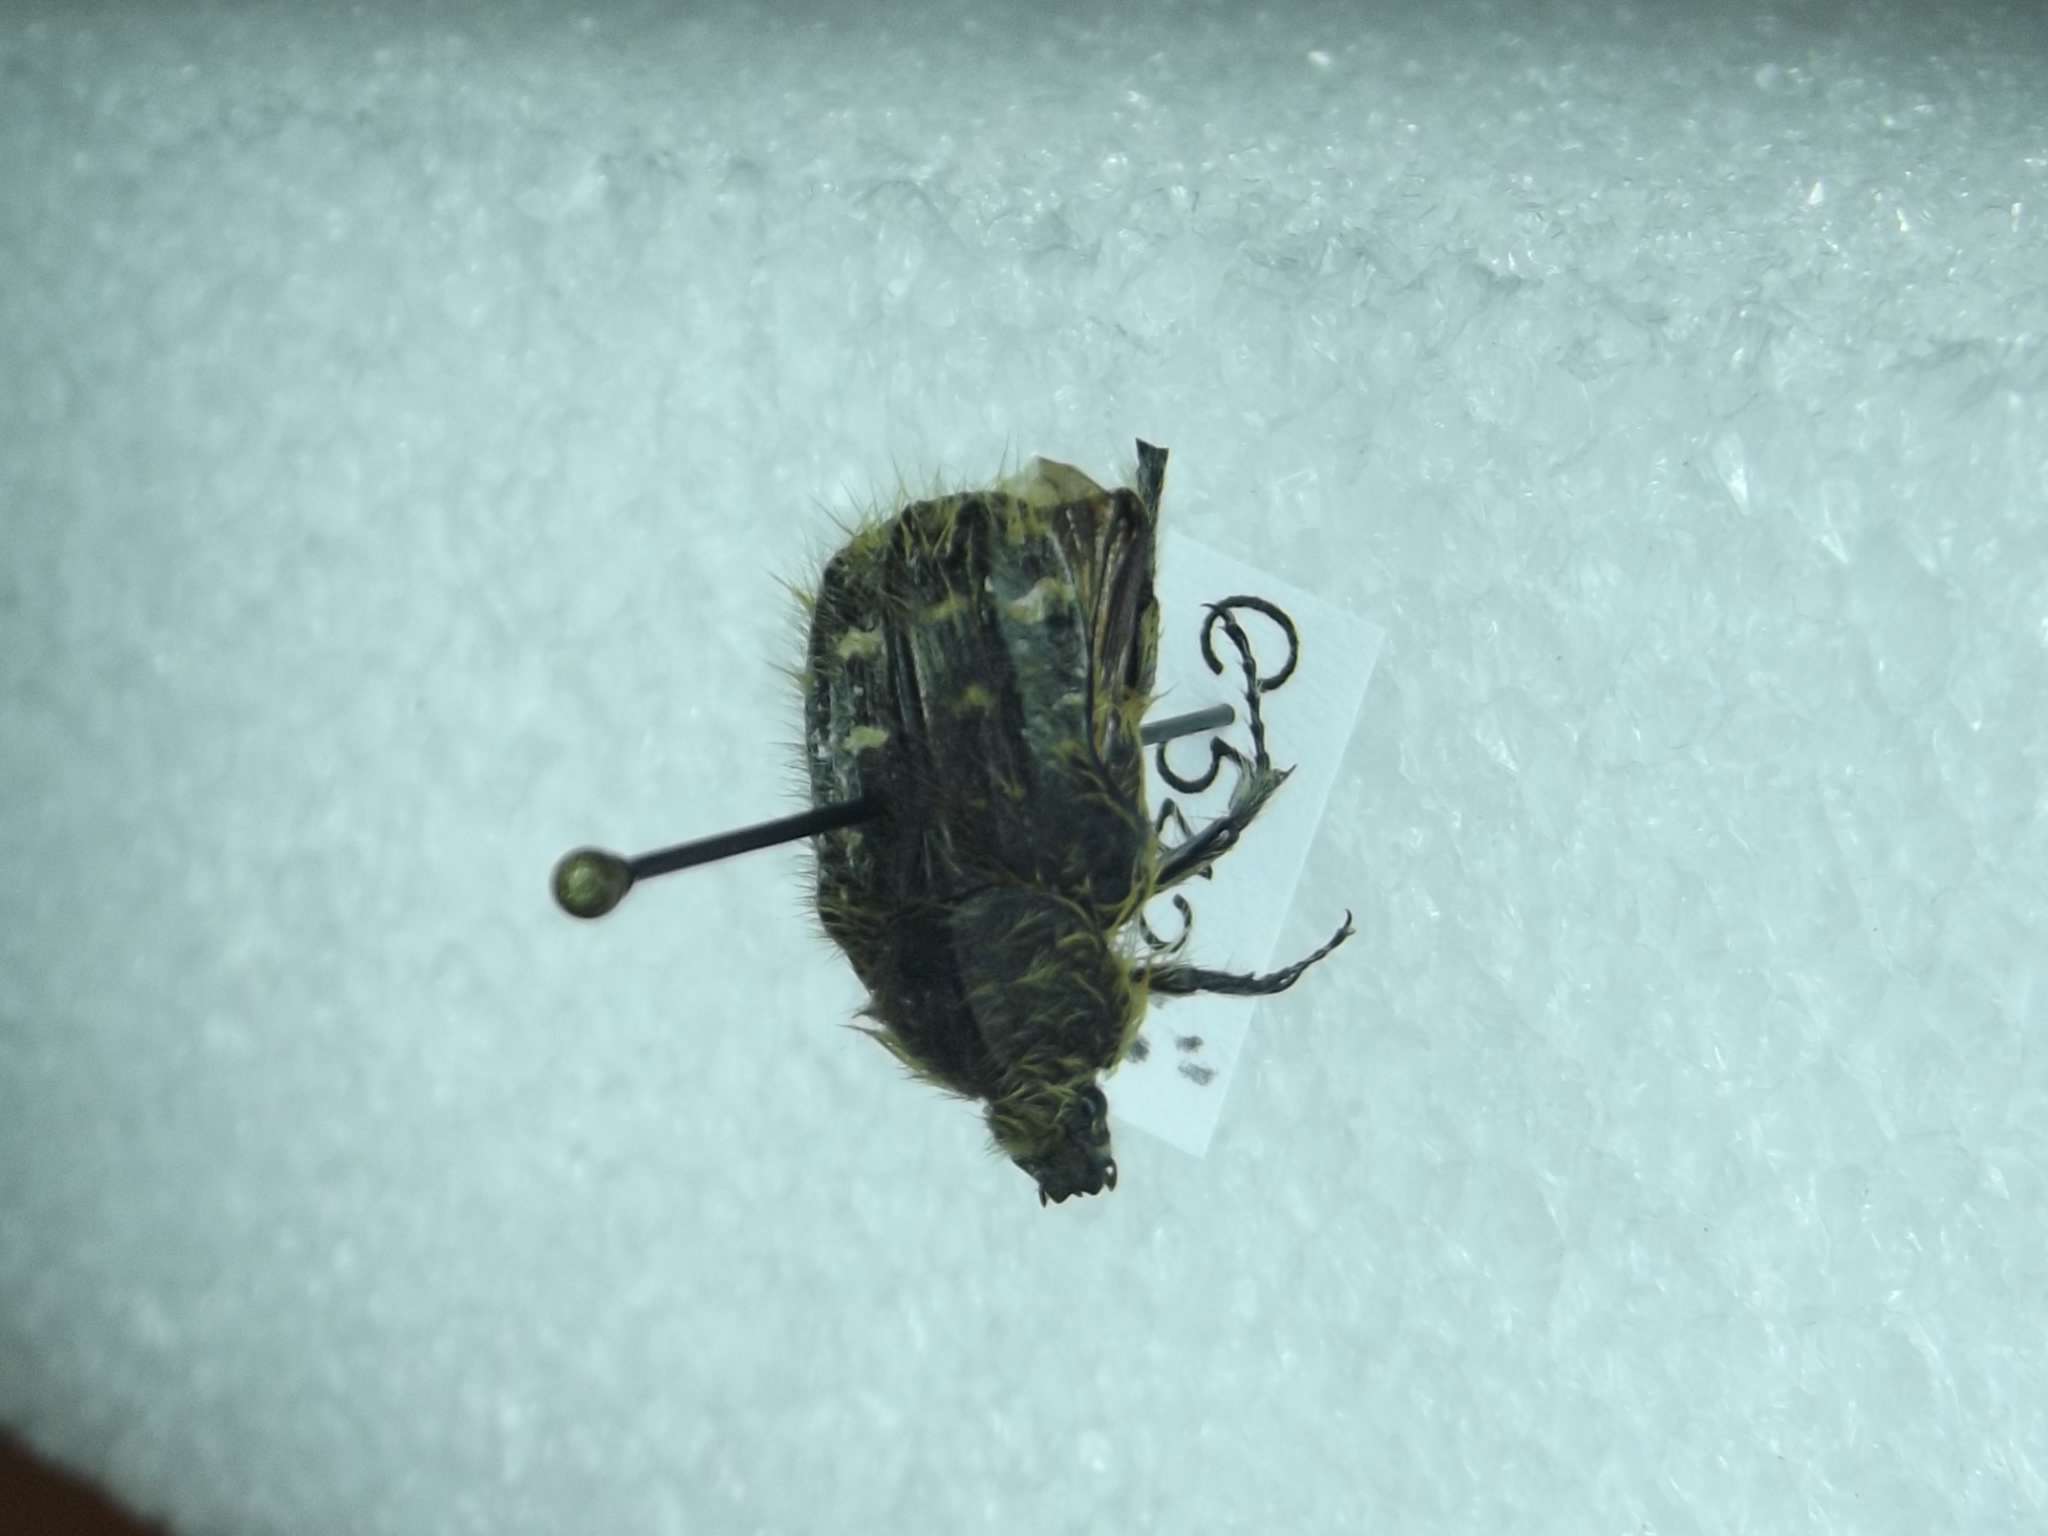Tropinota_hirta: (742, 366, 1388, 1249)
